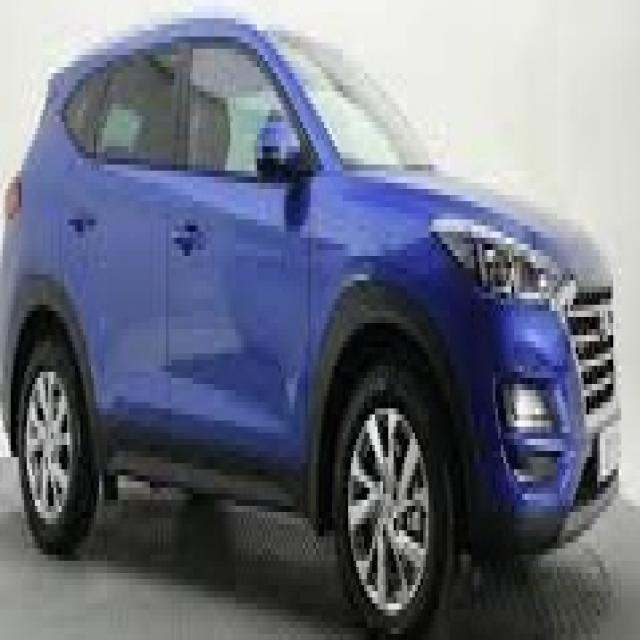blue: (0, 18, 625, 634)
